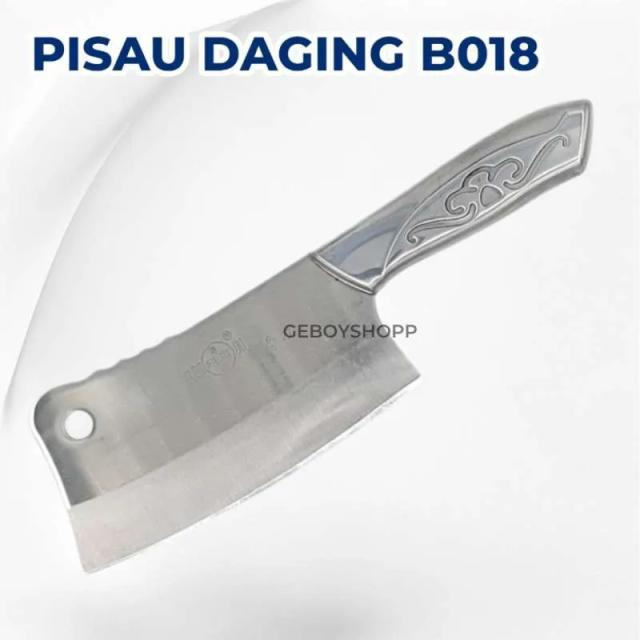Knife: (33, 100, 591, 571)
